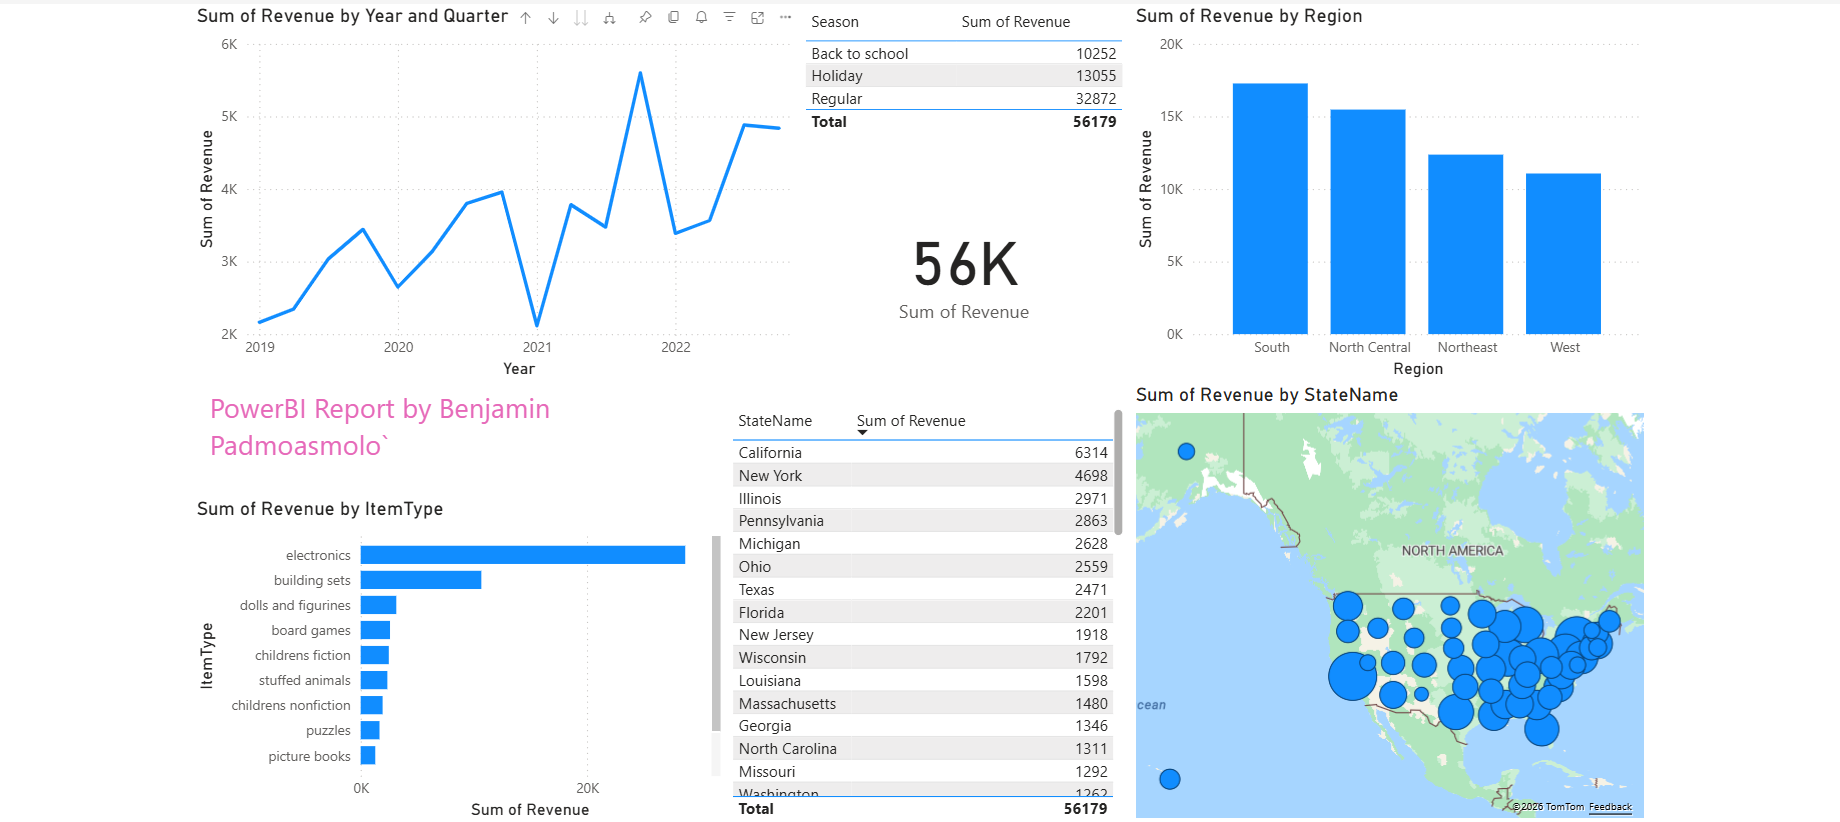

Layout of this report page (visuals, bound fields, positions):
{"tool":"powerbi","page":{"name":"Page 1","canvas":[1280,720],"ordinal":0},"visuals":[{"type":"clusteredBarChart","fields":{"Category":["ToyStore.ItemType"],"Y":["Sum(ToyStore.Revenue)"]},"box":[0,432.9,470,287.1],"z":0},{"type":"azureMap","fields":{"Category":["ToyStore.StateName"],"Size":["Sum(ToyStore.Revenue)"]},"box":[824.3,332.9,455.7,387.1],"z":1000},{"type":"tableEx","fields":{"Values":["ToyStore.StateName","Sum(ToyStore.Revenue)"]},"box":[470,350,354.3,370],"z":2000},{"type":"lineChart","fields":{"Category":["ToyStore.Date.Variation.Date Hierarchy.Year","ToyStore.Date.Variation.Date Hierarchy.Quarter","ToyStore.Date.Variation.Date Hierarchy.Month","ToyStore.Date.Variation.Date Hierarchy.Day"],"Y":["Sum(ToyStore.Revenue)"]},"box":[0,0,534.3,332.9],"z":3000},{"type":"clusteredColumnChart","fields":{"Y":["Sum(ToyStore.Revenue)"],"Category":["ToyStore.Region"]},"box":[824.3,0,455.7,332.9],"z":4000},{"type":"tableEx","fields":{"Values":["ToyStore.Season","Sum(ToyStore.Revenue)"]},"box":[534.3,0,290,130],"z":5000},{"type":"card","fields":{"Values":["Sum(ToyStore.Revenue)"]},"box":[534.3,130,290,202.9],"z":6000},{"type":"textbox","box":[11.4,332.9,458.6,100],"z":6001}]}

Visuals, with their boxes on the page's 1280x720 design canvas (x1, y1, x2, y2). These are canvas units, not pixel positions in the 1840x822 screenshot, which may show the page scaled, cropped or inside an application window:
clusteredBarChart - ToyStore.ItemType x Sum(ToyStore.Revenue): detection(0, 433, 470, 720)
azureMap - ToyStore.StateName x Sum(ToyStore.Revenue): detection(824, 333, 1280, 720)
tableEx - ToyStore.StateName x Sum(ToyStore.Revenue): detection(470, 350, 824, 720)
lineChart - ToyStore.Date.Variation.Date Hierarchy.Year x ToyStore.Date.Variation.Date Hierarchy.Quarter: detection(0, 0, 534, 333)
clusteredColumnChart - Sum(ToyStore.Revenue) x ToyStore.Region: detection(824, 0, 1280, 333)
tableEx - ToyStore.Season x Sum(ToyStore.Revenue): detection(534, 0, 824, 130)
card - Sum(ToyStore.Revenue): detection(534, 130, 824, 333)
textbox: detection(11, 333, 470, 433)
